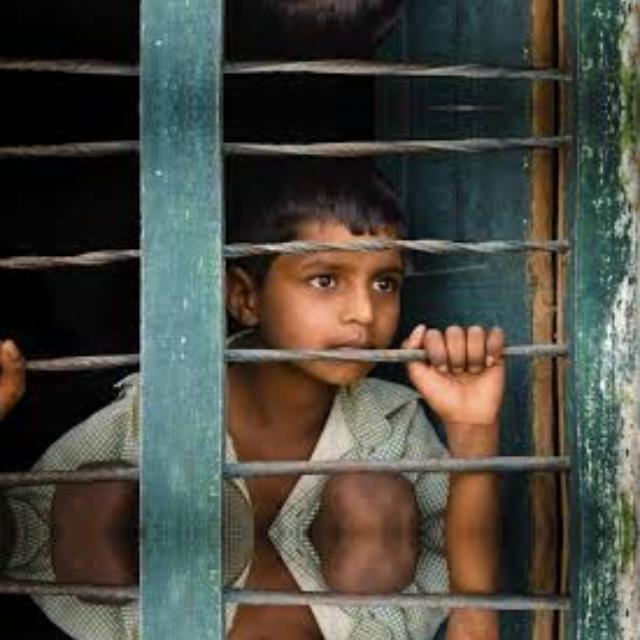person: (196, 163, 500, 532), (196, 532, 500, 640), (196, 0, 500, 50)
